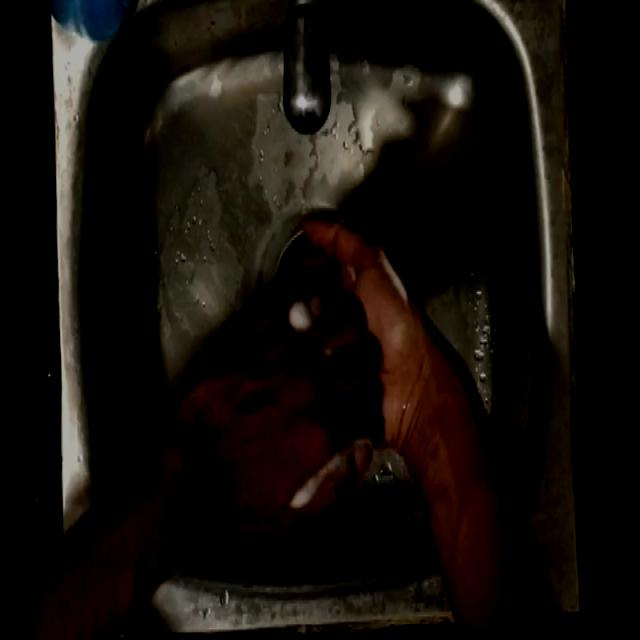step_4: (195, 205, 429, 475)
